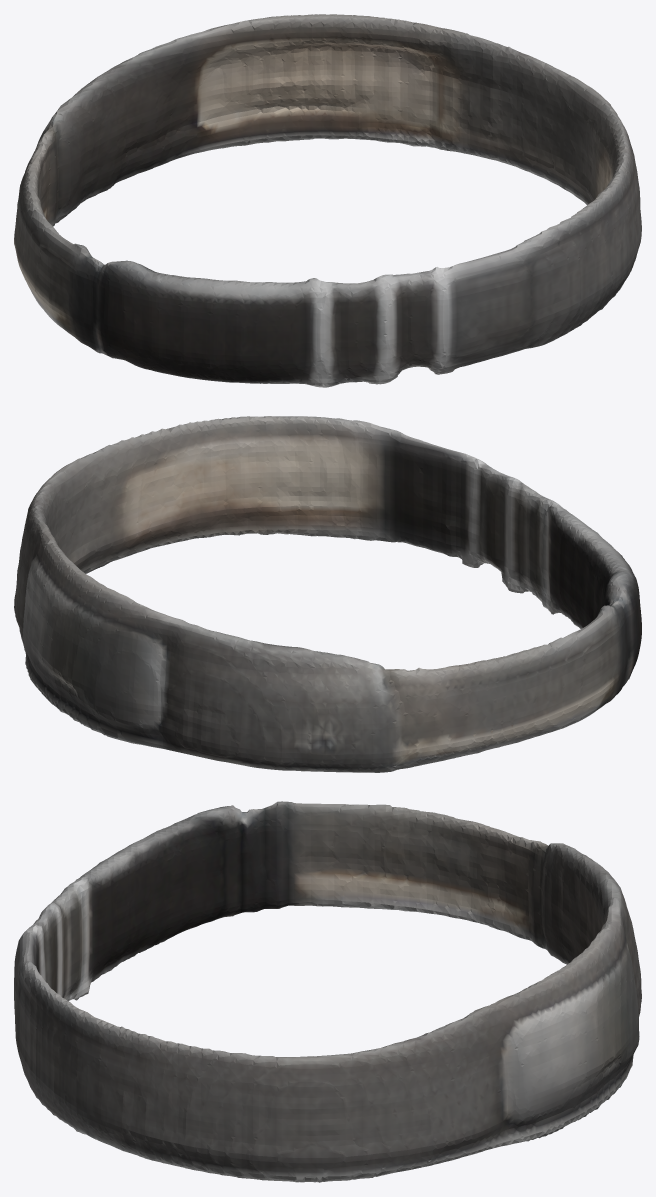
File: muse_athena.glb
The picture shows the model from 3 angles, top to bottom: view 1: azimuth 30°, elevation 25°; view 2: azimuth 150°, elevation 25°; view 3: azimuth 270°, elevation 25°; orthographic projection. The views are drawn at different scales.
Parts seen in each view (by area): view 1: world; view 2: world; view 3: world.
Boxes of the visible parts, left/top/right/bottom form: world: left=14, top=14, right=641, bottom=387; world: left=14, top=416, right=641, bottom=772; world: left=14, top=801, right=641, bottom=1182.
Size of the model in its own units: 1.95 by 0.4958 by 1.78.
